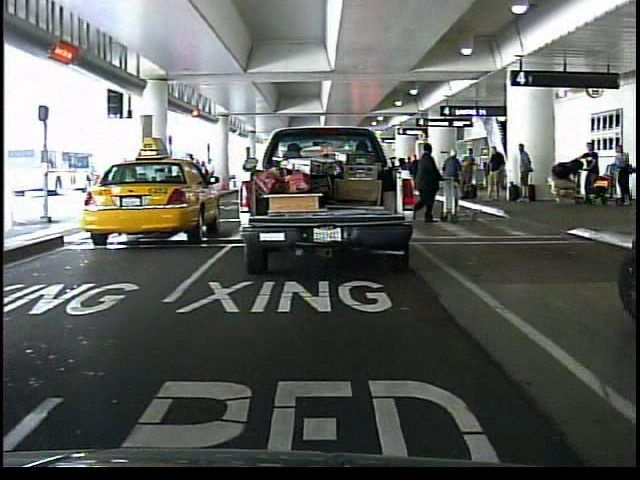person: (415, 140, 444, 225), (610, 141, 635, 213), (440, 146, 465, 217), (582, 141, 601, 184)
